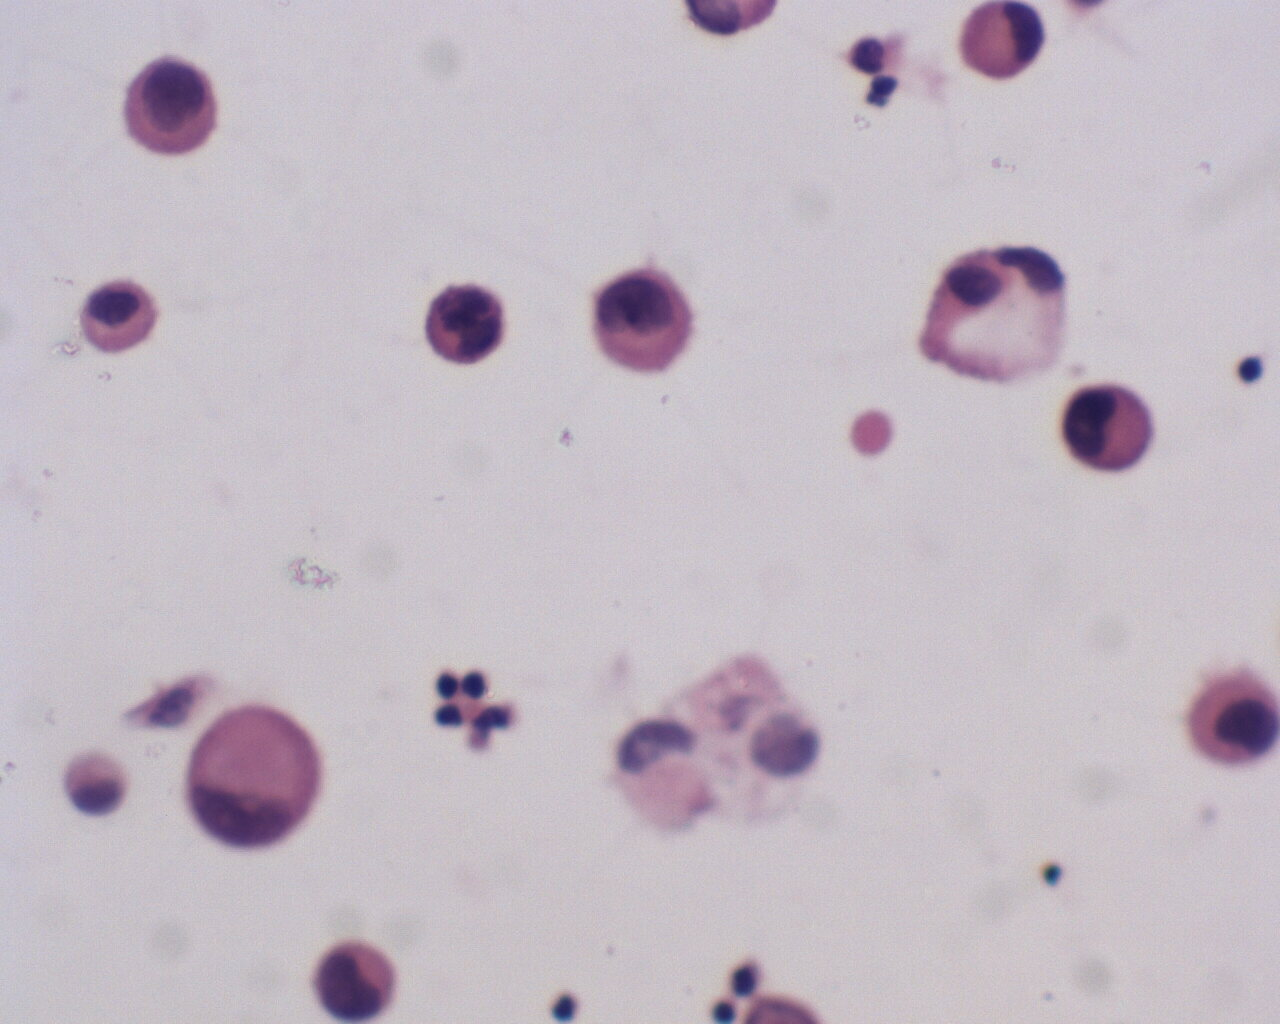ab: (591, 259, 697, 377), (116, 54, 222, 158), (1185, 668, 1280, 778), (1057, 374, 1156, 480), (424, 277, 508, 372), (313, 937, 404, 1024)
histo: (958, 3, 1048, 86)
meso: (79, 277, 163, 359)
